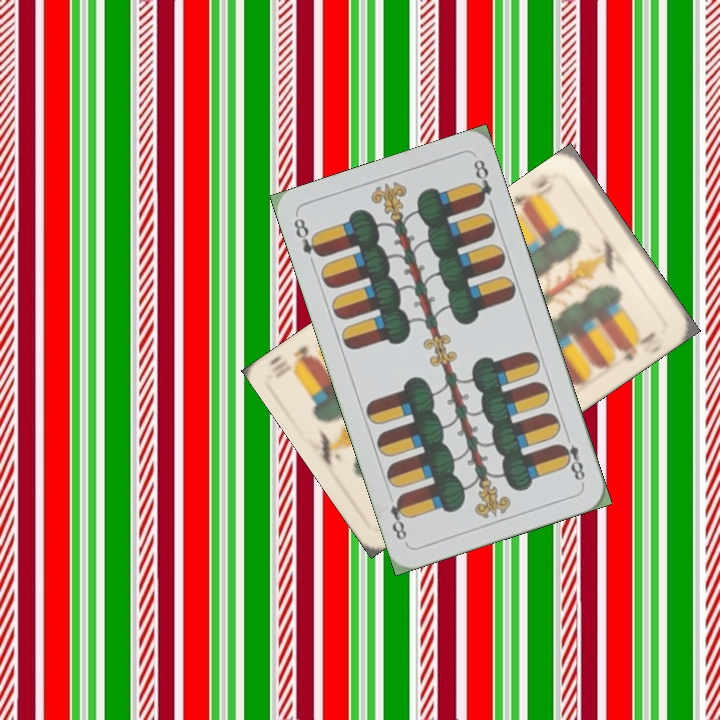E10: (508, 168, 562, 216)
E8: (555, 428, 588, 486), (289, 214, 326, 260)
